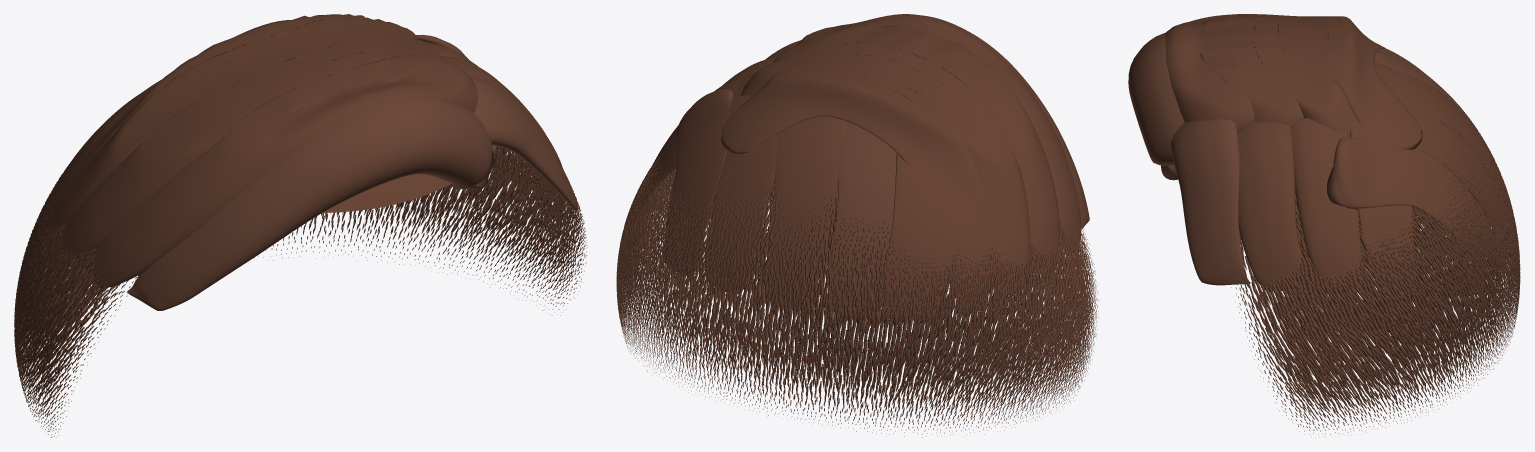
File: Masculine-taper-pashmina254-hair.glb
The picture shows the model from 3 angles, left to right: view 1: azimuth 30°, elevation 25°; view 2: azimuth 150°, elevation 25°; view 3: azimuth 270°, elevation 25°; orthographic projection. The views are drawn at different scales.
Parts seen in each view (by area): view 1: 226 hair / Hair252 / sculpted locks, 226 hair / Hair252 / gentle tonal variation, 226 hair / Hair254 / rooted short groom; view 2: 226 hair / Hair252 / sculpted locks, 226 hair / Hair254 / rooted short groom, 226 hair / Hair252 / gentle tonal variation; view 3: 226 hair / Hair252 / sculpted locks, 226 hair / Hair254 / rooted short groom, 226 hair / Hair252 / gentle tonal variation.
Part boxes in pixels (bbox=[...]): 226 hair / Hair252 / sculpted locks: bbox=[36, 14, 562, 288]; 226 hair / Hair252 / gentle tonal variation: bbox=[127, 76, 577, 310]; 226 hair / Hair254 / rooted short groom: bbox=[14, 145, 587, 437]; 226 hair / Hair252 / sculpted locks: bbox=[634, 14, 1081, 320]; 226 hair / Hair254 / rooted short groom: bbox=[616, 149, 1098, 437]; 226 hair / Hair252 / gentle tonal variation: bbox=[765, 15, 1089, 318]; 226 hair / Hair252 / sculpted locks: bbox=[1165, 14, 1506, 294]; 226 hair / Hair254 / rooted short groom: bbox=[1231, 88, 1520, 437]; 226 hair / Hair252 / gentle tonal variation: bbox=[1128, 32, 1467, 285].
Size of the model in its own units: 0.9716 by 0.6131 by 0.7405.
